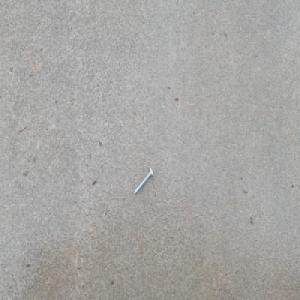Nail: (133, 167, 154, 197)
